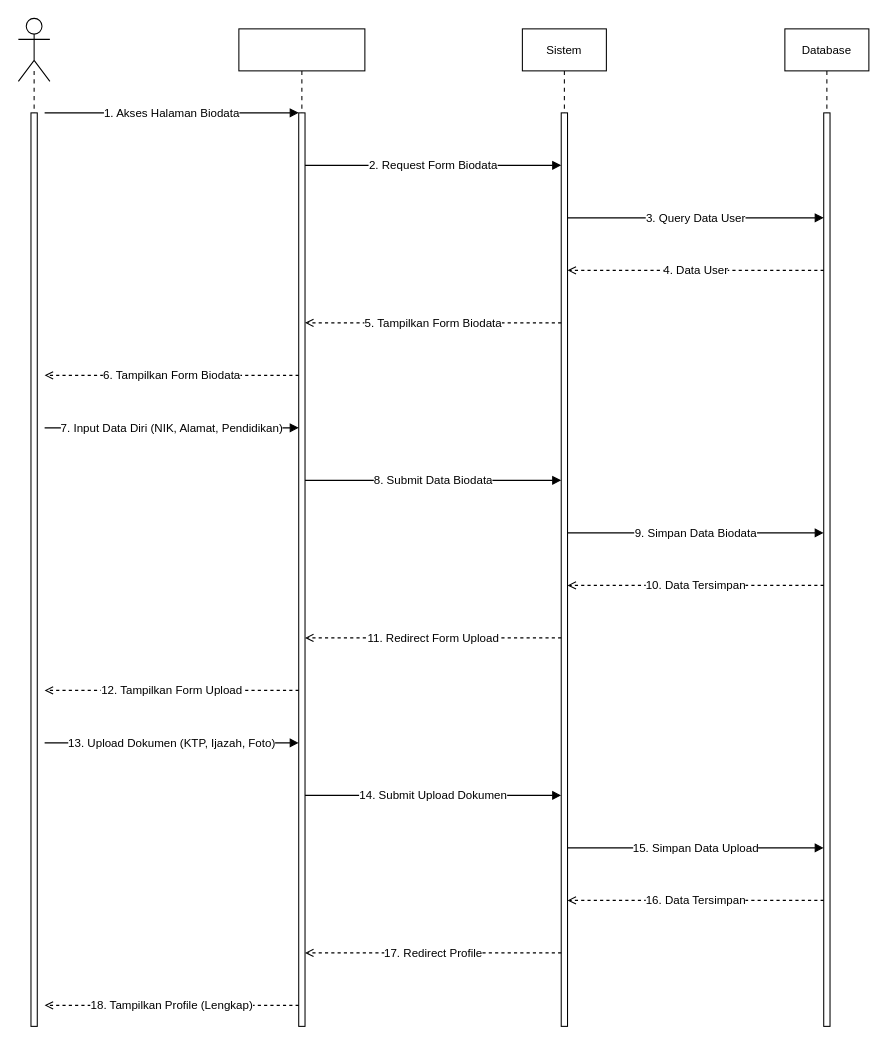
This 887x1046 diagram has some shape labels left out. Each missing label, with the centre of its shape:
"Halaman Biodata" goes at pixel 301 49.
"User" goes at pixel 33 49.
